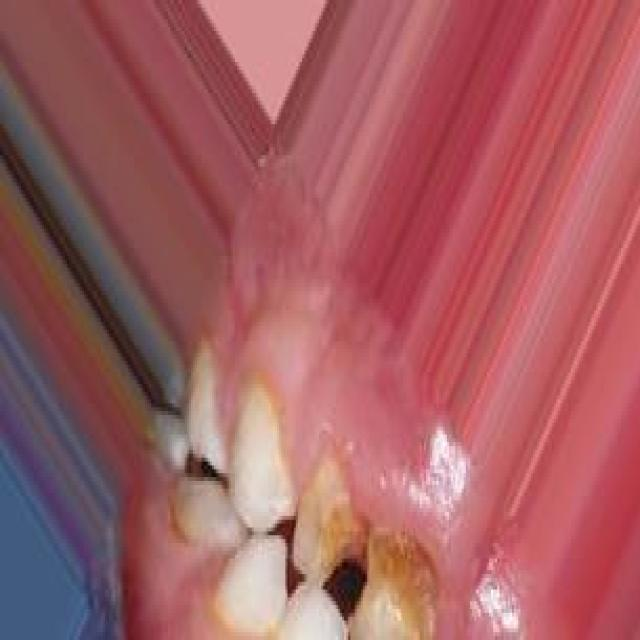caries: (350, 516, 443, 640), (292, 444, 359, 594)
